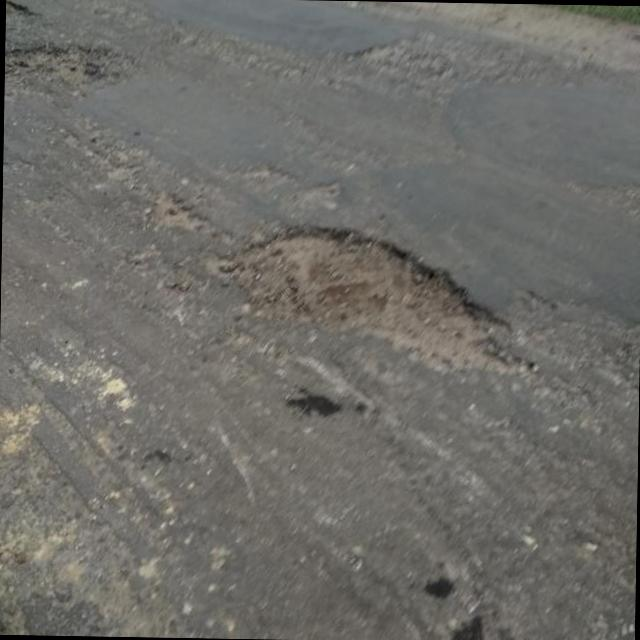pothole: (218, 217, 532, 377), (5, 38, 130, 90), (348, 38, 458, 76)
